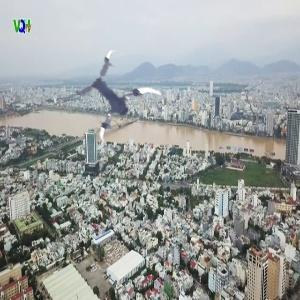drone: (74, 59, 163, 148)
